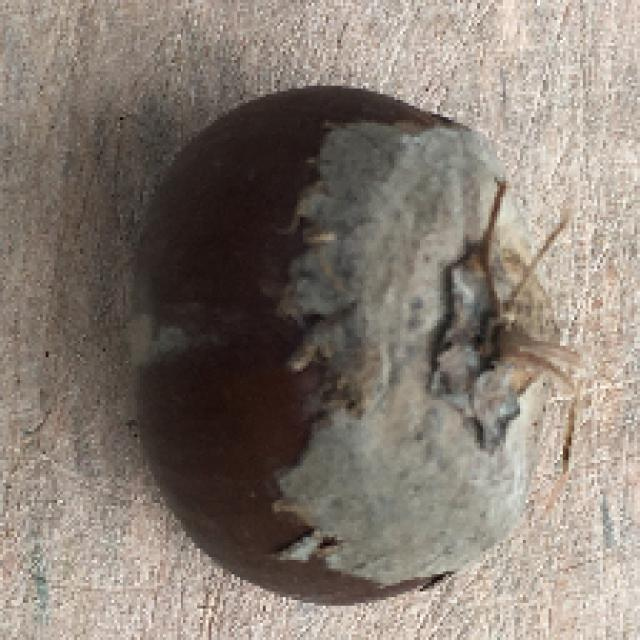DamagedHazelnut: (133, 81, 544, 608)
